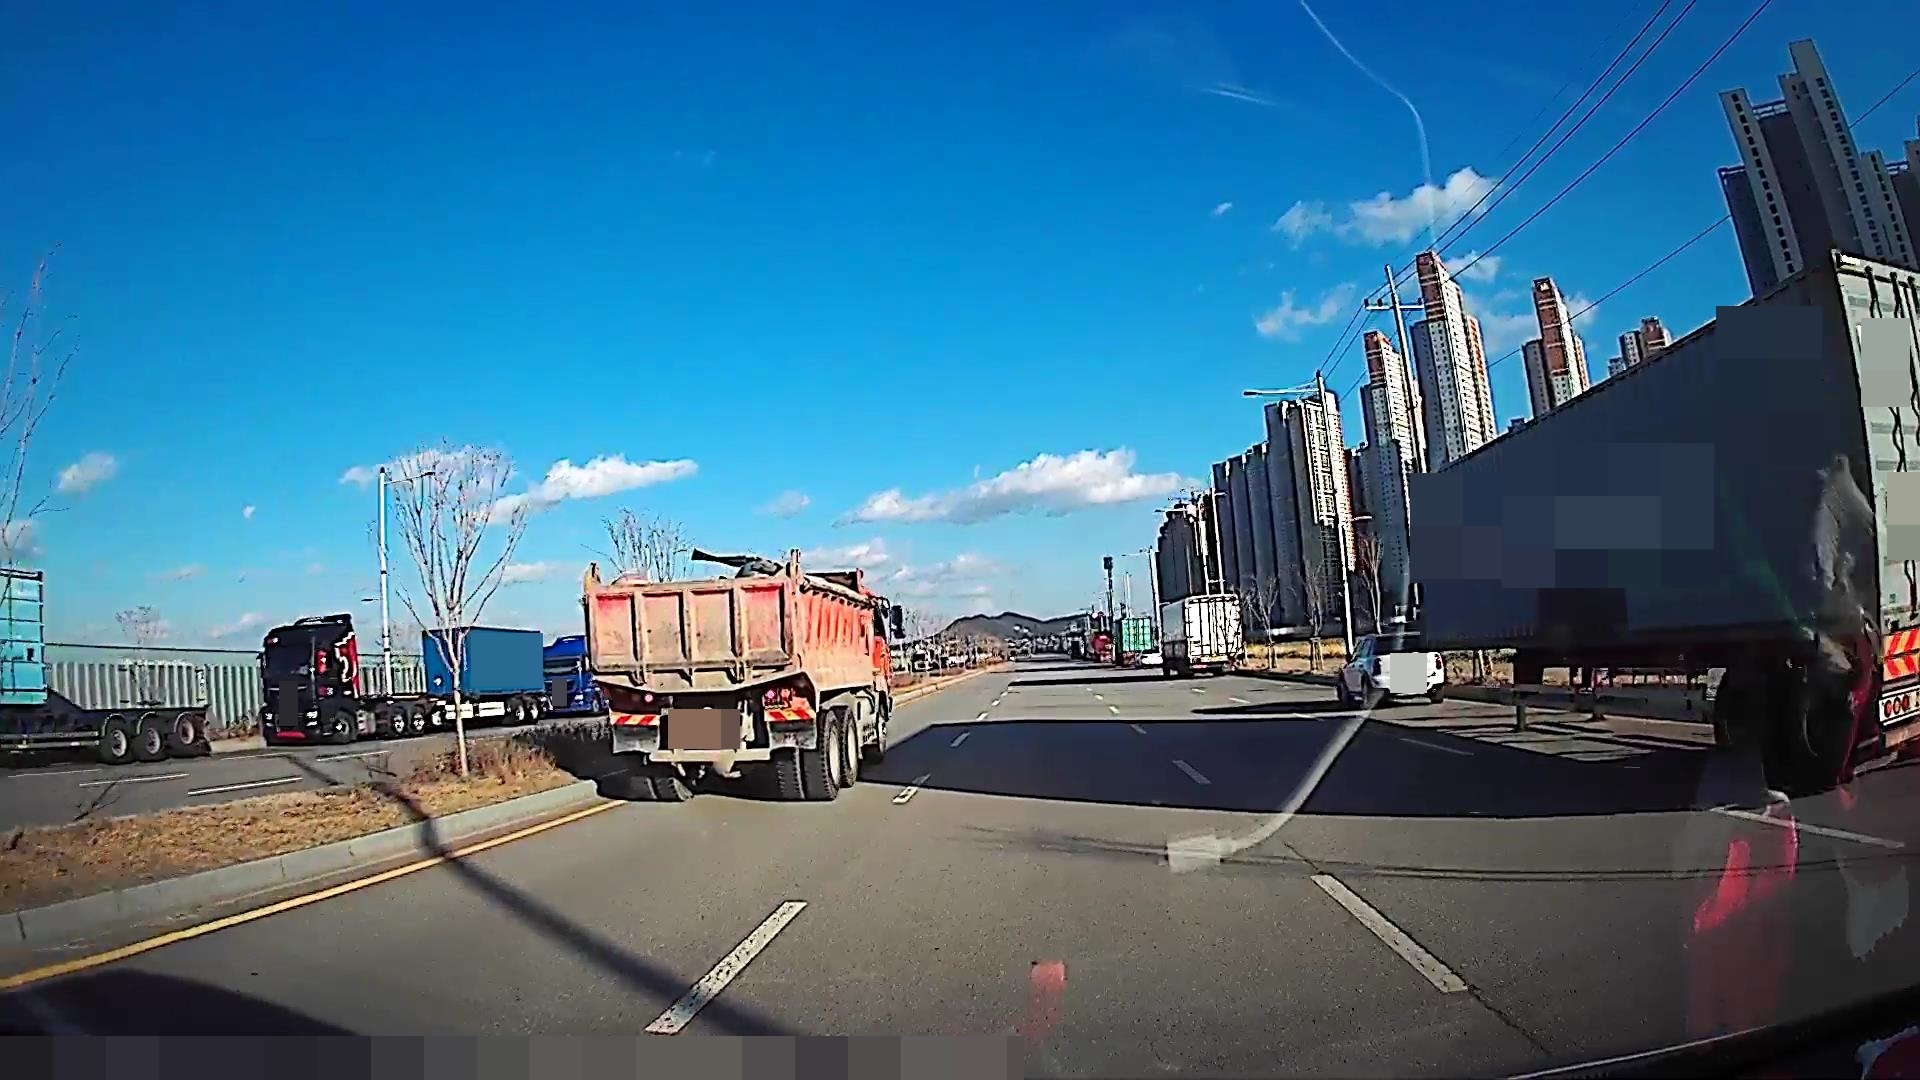불법차량: (584, 546, 906, 802)
